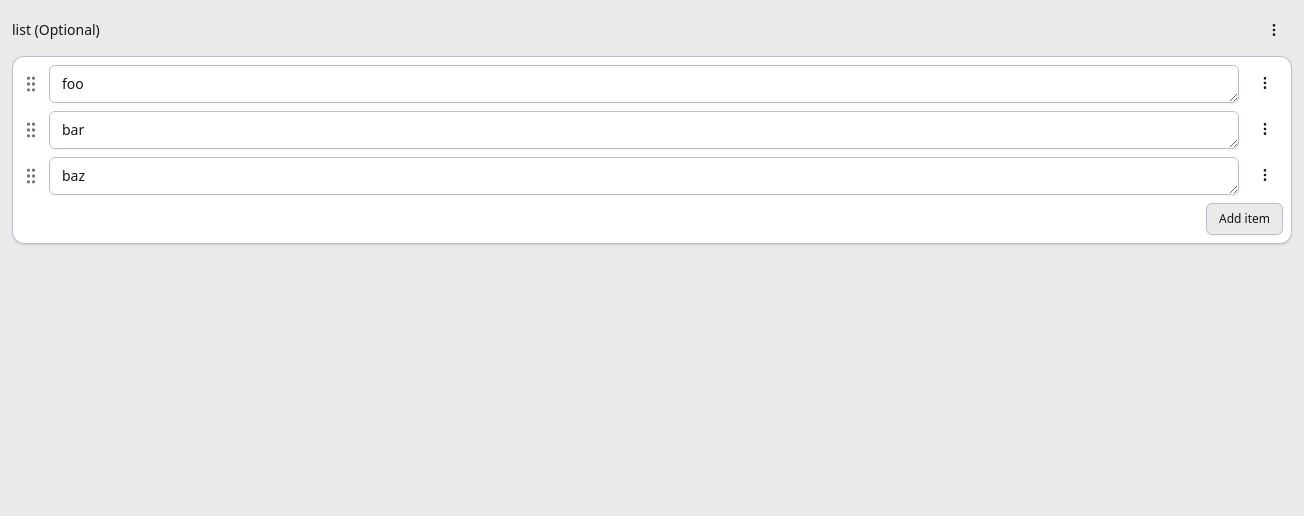
Test: SchemaFormInputArrayList › move up/down menu options › move up and move down options are available in menu for regular items
The width and height of the screenshot is (1304, 516).
Expected: the button named "open menu" in the row of "list (Optional)" is shown, [1256,12,1292,48]
// Click the second array item's menu (index 2 - after property menu and first item menu)
Click the 3rd button named "open menu".
click(1265, 129)  # box [1247,111,1283,147]
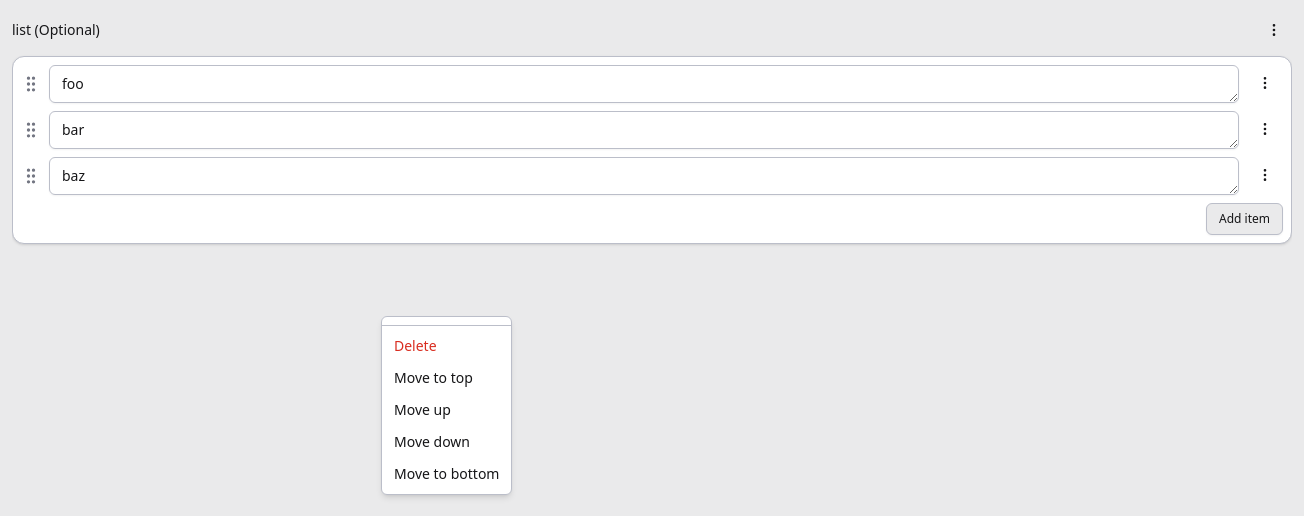
Now the menu item "Move up" is shown, box [394,400,451,419]
Now the menu item "Move down" is shown, box [394,432,470,451]
